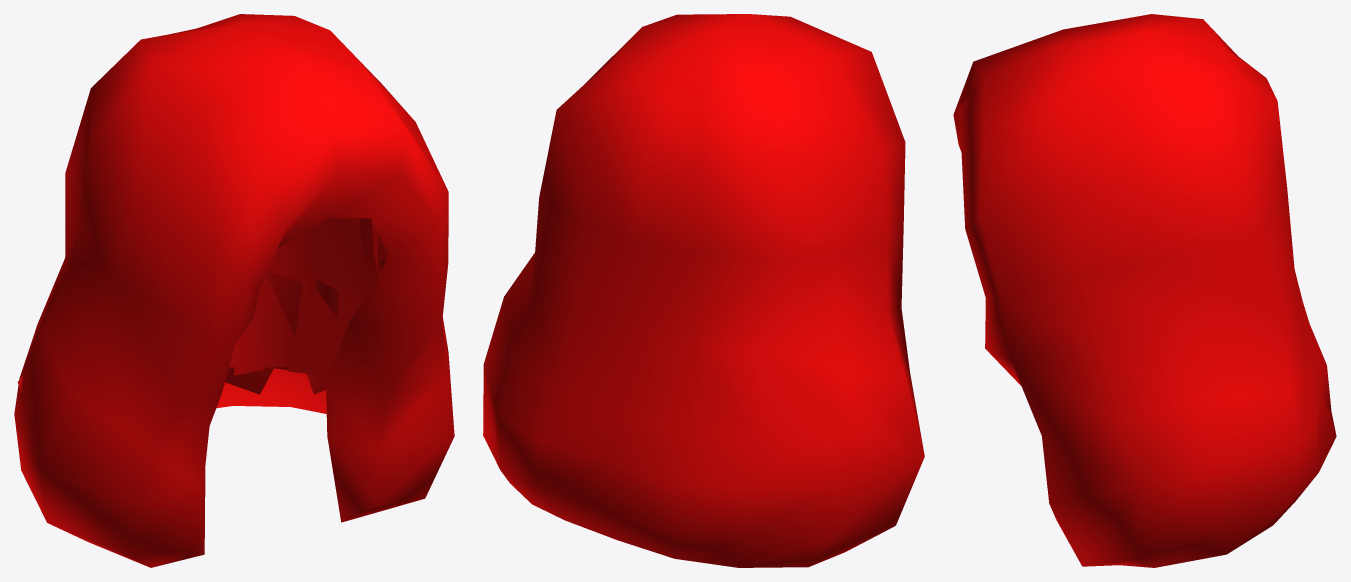
File: hair_000_r_high.FBX
3 renders of one model, left to right at view 1: azimuth 30°, elevation 25°; view 2: azimuth 150°, elevation 25°; view 3: azimuth 270°, elevation 25°, orthographic. The views are drawn at different scales.
Parts seen in each view (by area): view 1: hair_000_r_high; view 2: hair_000_r_high; view 3: hair_000_r_high.
Part boxes in pixels (x1,y1,x2,y2): hair_000_r_high: (14,14,454,567); hair_000_r_high: (483,14,924,567); hair_000_r_high: (953,14,1336,567).
Size of the model in its own units: 0.3027 by 0.3486 by 0.2539.
